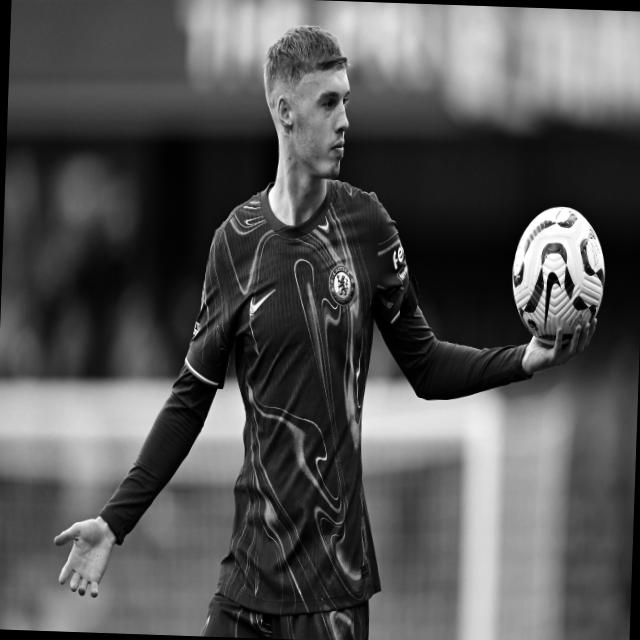football: (511, 206, 605, 366)
